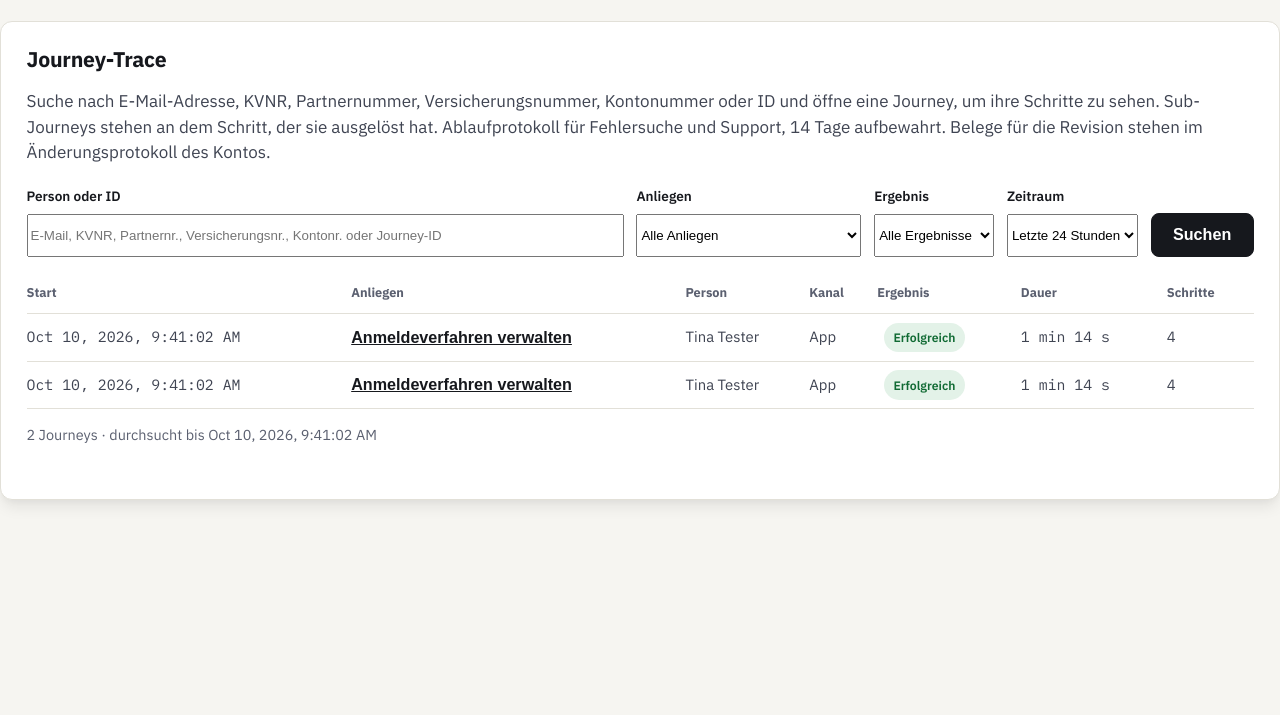
JourneyTraceView › opens a journey with its sub-journey inside the step that required it
Click the 1st button "Anmeldeverfahren verwalten" at [462, 338], box [351,322,572,353]
(page scrolled)
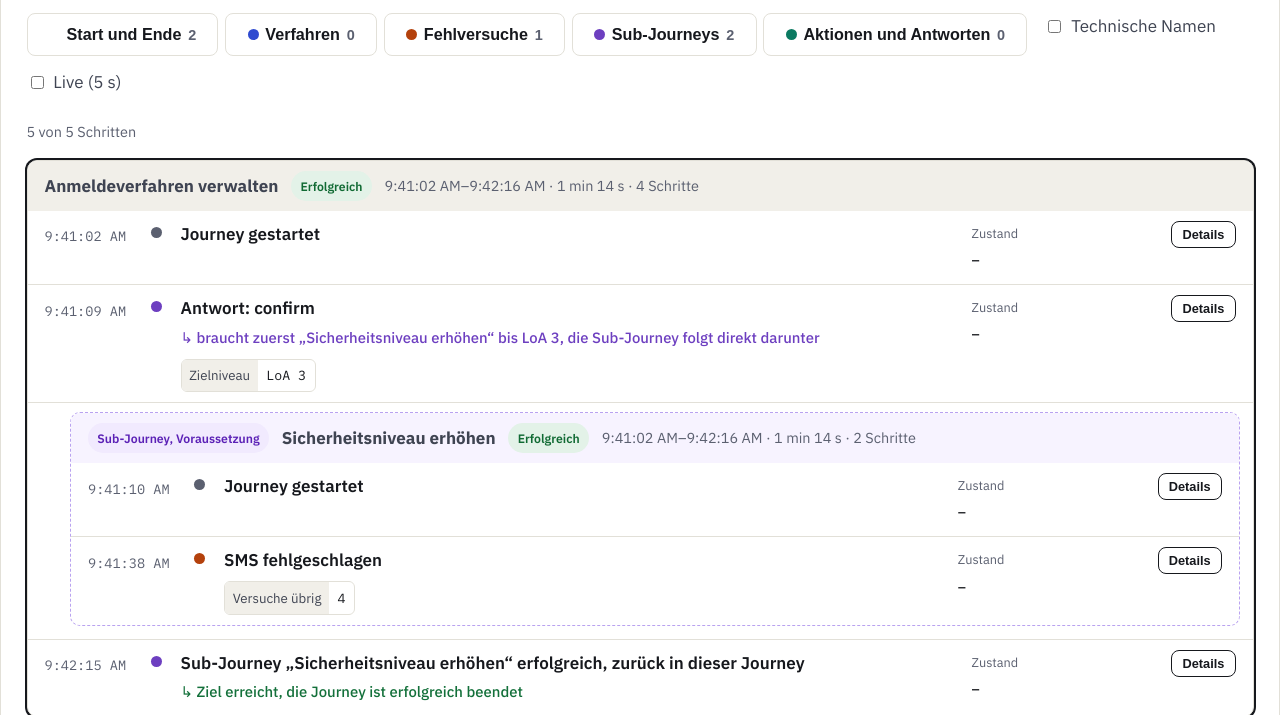
Check: the text "Sub-Journey, Voraussetzung" is shown, box [88,423,269,453]
Check: the text "zurück in dieser Journey" is shown, box [180,652,805,674]
